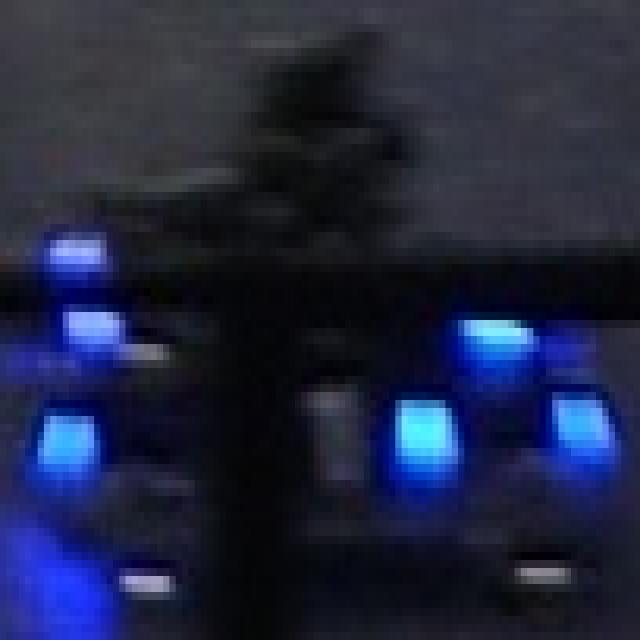B1: (295, 368, 458, 520)
